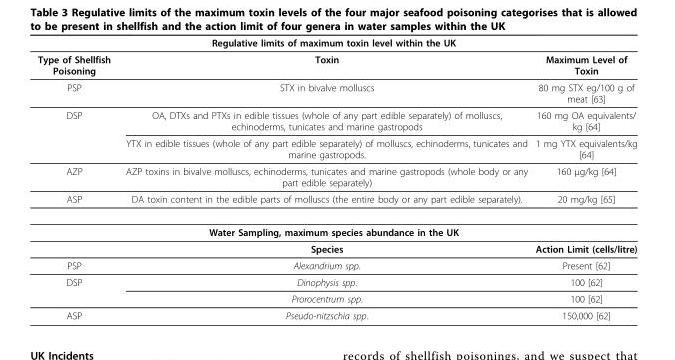table: (37, 36, 636, 320)
table column: (117, 36, 530, 320), (530, 36, 636, 320), (37, 36, 117, 320)
table column header: (37, 36, 636, 78)
table projected row header: (37, 215, 636, 240)
table row: (37, 50, 636, 78), (37, 78, 636, 106), (37, 106, 636, 134), (37, 134, 636, 162), (37, 162, 636, 190), (37, 190, 636, 215), (37, 215, 636, 240), (37, 256, 636, 273), (37, 273, 636, 290), (37, 240, 636, 256), (37, 290, 636, 306), (37, 36, 636, 50), (37, 306, 636, 320)
table spanning cell: (37, 36, 636, 50), (37, 106, 117, 162), (37, 273, 117, 306)
